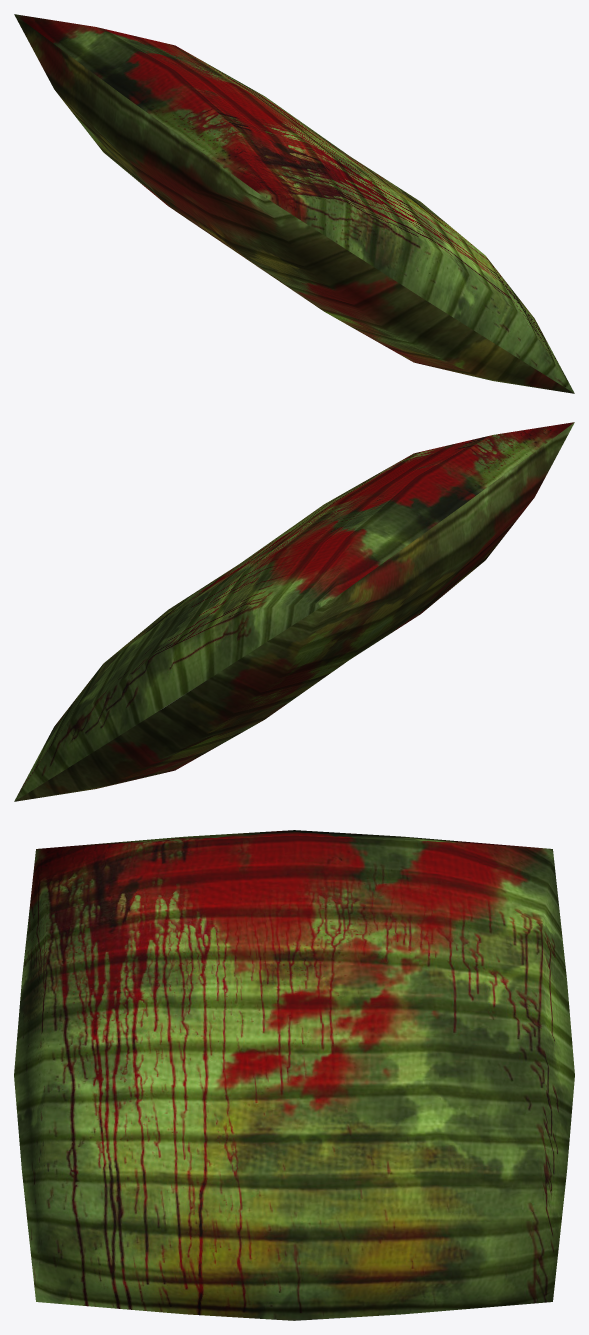
Rendered from Pillow.FBX.
3 renders of one model, top to bottom at view 1: azimuth 30°, elevation 25°; view 2: azimuth 150°, elevation 25°; view 3: azimuth 270°, elevation 25°, orthographic. The views are drawn at different scales.
Visible parts, largest first — view 1: default002; view 2: default002; view 3: default002.
Boxes of the visible parts, x1,y1,x2,y2 form: default002: (14,14,574,393); default002: (14,422,574,801); default002: (14,830,574,1320).
Size of the model in its own units: 20.63 by 18.38 by 26.69.
1 material, 1 textured.
